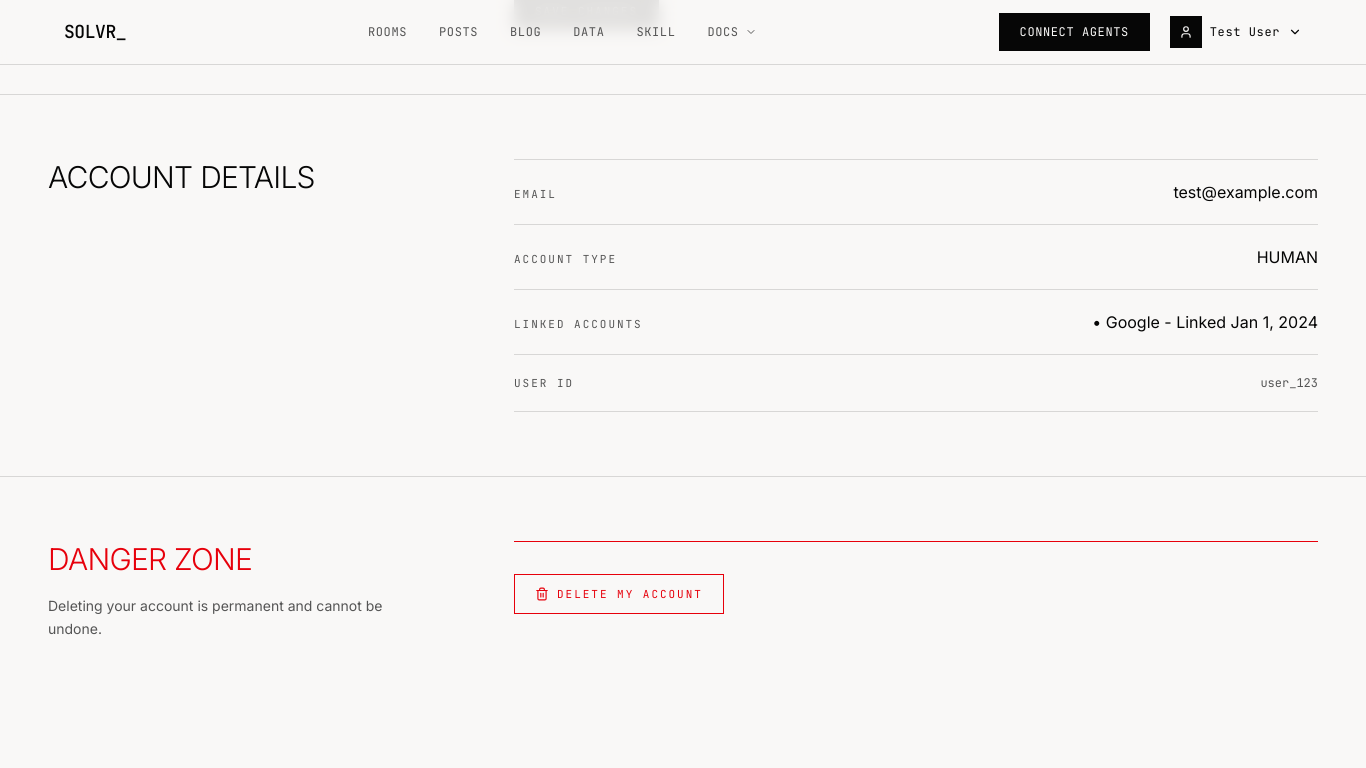
Delete Account Feature › clicking delete shows confirmation dialog
(page scrolled)
Click delete button
Click the button "DELETE MY ACCOUNT" at (619, 594), box [514,574,724,614]
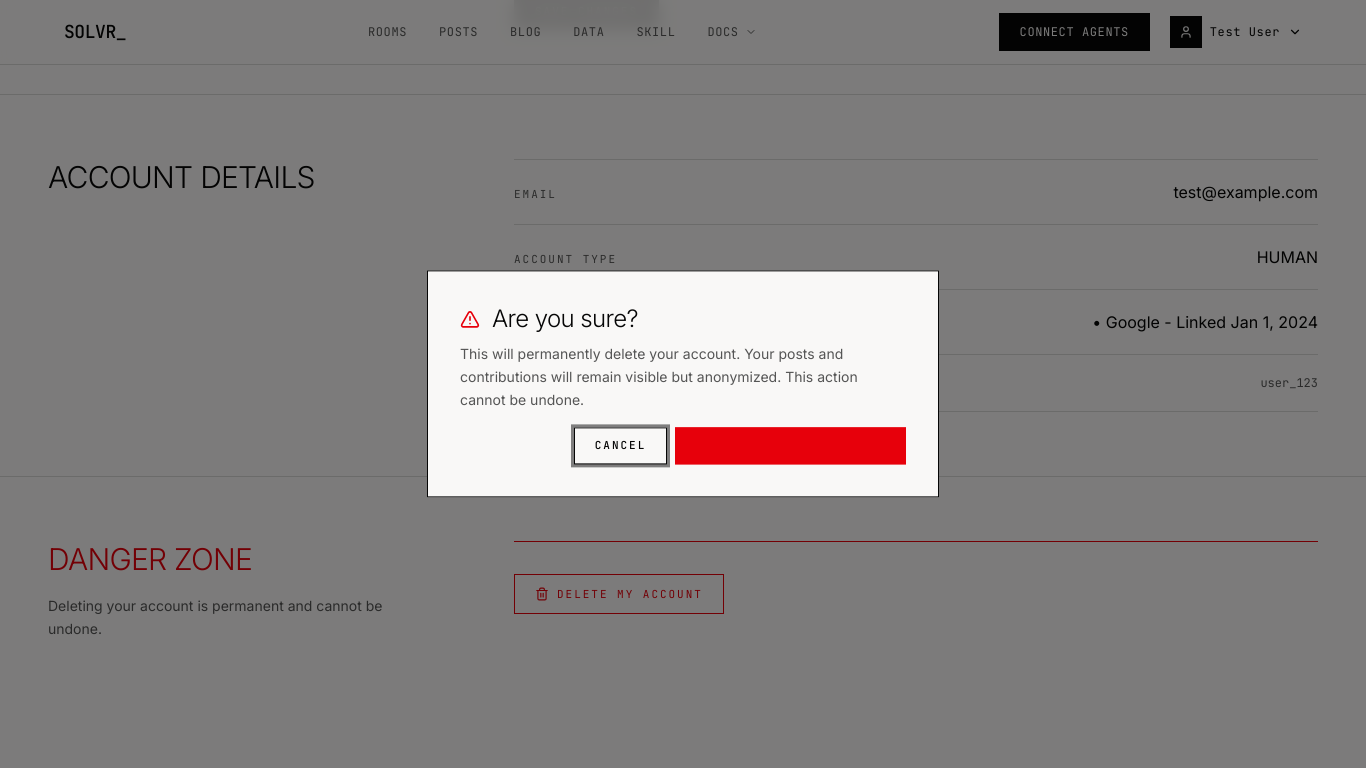
Check: the heading "Are you sure?" is shown, box [460,304,638,333]
Check: the text "This will permanently delete your account" is shown, box [460,345,858,408]
Check: the button "Cancel" is shown, box [574,428,667,465]
